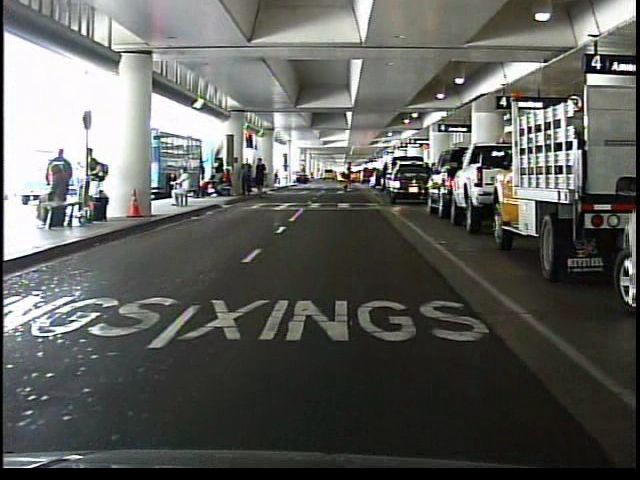person: (167, 169, 195, 211), (337, 159, 359, 193), (195, 156, 209, 200)
